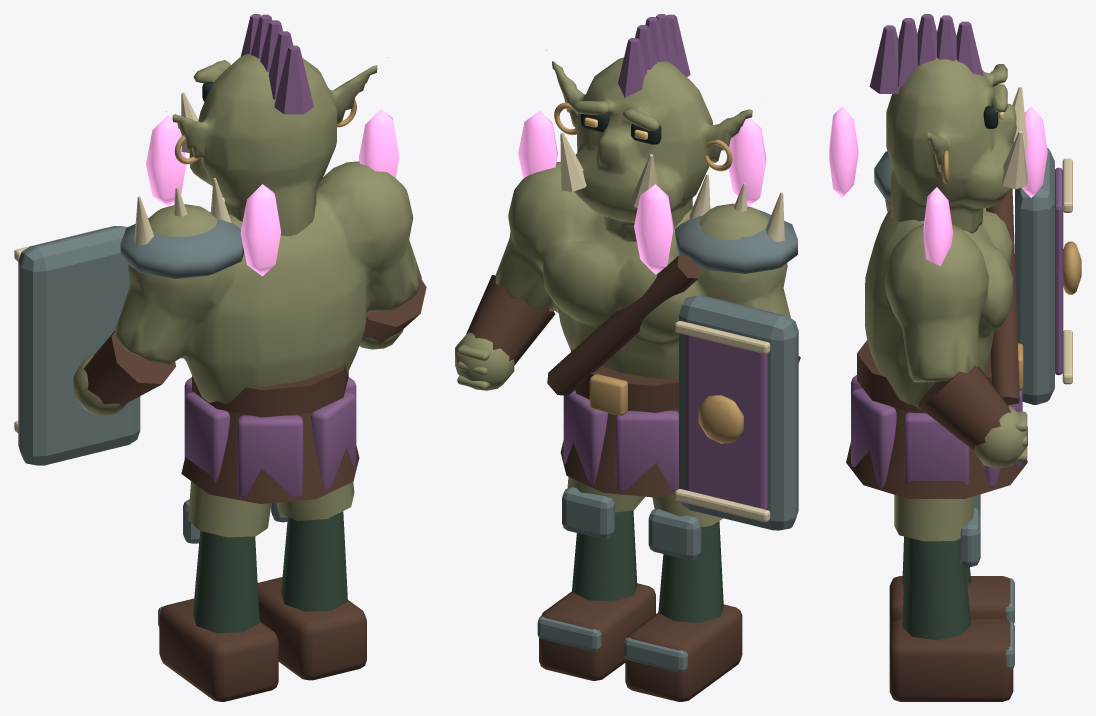
The model's file is host_14.glb.
The picture shows the model from 3 angles, left to right: view 1: azimuth 30°, elevation 25°; view 2: azimuth 150°, elevation 25°; view 3: azimuth 270°, elevation 25°; orthographic projection. The views are drawn at different scales.
Visible parts, largest first — view 1: mesh_Skin.002, mesh_Iron.002, mesh_Cloth.013, mesh_Leather.002, mesh_Leather.013, mesh_Leather.001, mesh_Shadow.013, mesh_Shadow.001, mesh_Skin.013, mesh_Soul.002, mesh_Soul.001, mesh_Bone.013 (+2 smaller); view 2: mesh_Skin.002, mesh_Cloth.013, mesh_Iron.002, mesh_Leather.002, mesh_Leather.013, mesh_Leather.001, mesh_Bone.013, mesh_Shadow.013, mesh_Shadow.001, mesh_Copper.013, mesh_Iron.013, mesh_Iron.001 (+6 smaller); view 3: mesh_Skin.002, mesh_Cloth.013, mesh_Leather.002, mesh_Iron.002, mesh_Leather.001, mesh_Shadow.001, mesh_Skin.001, mesh_Bone.013, mesh_Leather.013, mesh_Soul.002, mesh_Soul.013, mesh_Soul.001 (+2 smaller).
Part boxes in pixels (bbox=[...]): mesh_Skin.002: bbox=[73, 54, 421, 415]; mesh_Iron.002: bbox=[18, 212, 243, 465]; mesh_Cloth.013: bbox=[184, 14, 356, 497]; mesh_Leather.002: bbox=[84, 279, 426, 503]; mesh_Leather.013: bbox=[159, 598, 278, 701]; mesh_Leather.001: bbox=[257, 577, 366, 680]; mesh_Shadow.013: bbox=[193, 531, 259, 633]; mesh_Shadow.001: bbox=[281, 511, 347, 611]; mesh_Skin.013: bbox=[188, 481, 271, 537]; mesh_Soul.002: bbox=[240, 184, 280, 276]; mesh_Soul.001: bbox=[146, 115, 186, 206]; mesh_Bone.013: bbox=[14, 92, 231, 432]; mesh_Skin.002: bbox=[455, 50, 790, 390]; mesh_Cloth.013: bbox=[563, 14, 767, 509]; mesh_Iron.002: bbox=[675, 208, 798, 530]; mesh_Leather.002: bbox=[466, 255, 800, 497]; mesh_Leather.013: bbox=[625, 604, 742, 701]; mesh_Leather.001: bbox=[539, 583, 655, 680]; mesh_Bone.013: bbox=[560, 132, 784, 522]; mesh_Shadow.013: bbox=[658, 521, 723, 622]; mesh_Shadow.001: bbox=[572, 510, 637, 601]; mesh_Copper.013: bbox=[554, 102, 743, 443]; mesh_Iron.013: bbox=[624, 509, 701, 672]; mesh_Iron.001: bbox=[537, 487, 614, 651]; mesh_Skin.002: bbox=[865, 57, 1027, 467]; mesh_Cloth.013: bbox=[851, 14, 1063, 488]; mesh_Leather.002: bbox=[846, 188, 1027, 498]; mesh_Iron.002: bbox=[874, 148, 1054, 404]; mesh_Leather.001: bbox=[889, 619, 1013, 701]; mesh_Shadow.001: bbox=[902, 537, 971, 640]; mesh_Skin.001: bbox=[894, 495, 974, 541]; mesh_Bone.013: bbox=[1002, 87, 1072, 384]; mesh_Leather.013: bbox=[889, 576, 1010, 628]; mesh_Soul.002: bbox=[829, 106, 858, 197]; mesh_Soul.013: bbox=[923, 187, 953, 266]; mesh_Soul.001: bbox=[1022, 106, 1047, 197].
Bounding box in the file's own units: 1.15 × 1.98 × 0.6948.
